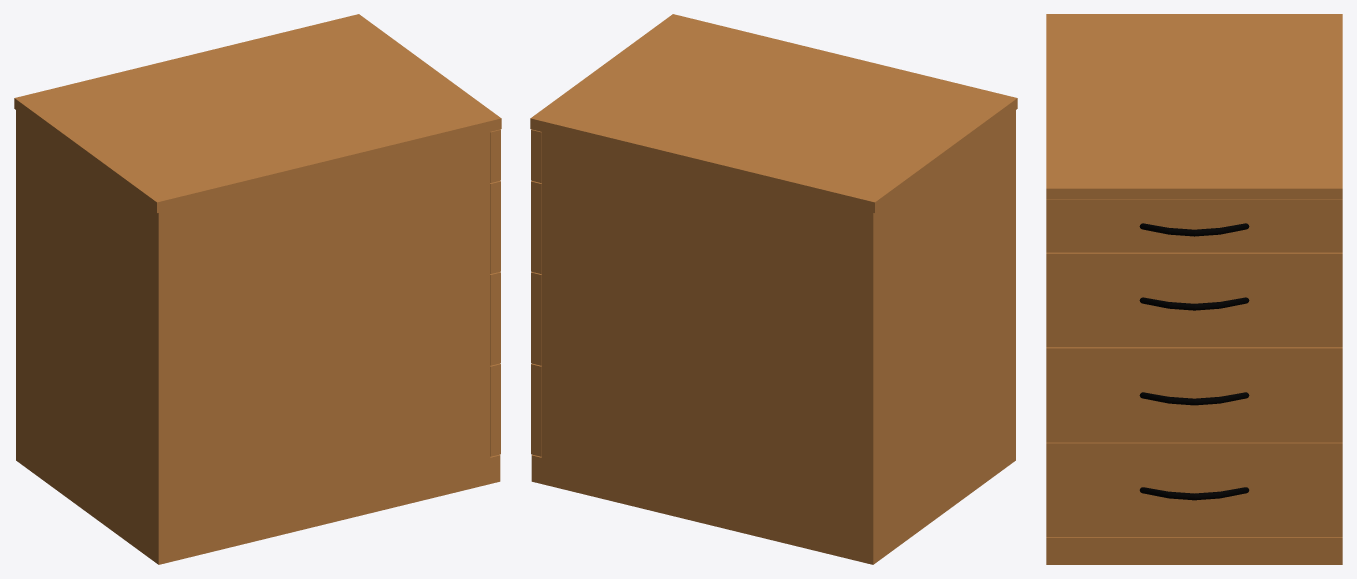
3 views of the same model, side by side, from view 1: azimuth 30°, elevation 25°; view 2: azimuth 150°, elevation 25°; view 3: azimuth 270°, elevation 25° (orthographic). The views are drawn at different scales.
Parts seen in each view (by area): view 1: Cube; view 2: Cube; view 3: Cube.
Boxes of the visible parts, x1,y1,x2,y2 form: Cube: (14, 14, 501, 564); Cube: (530, 14, 1017, 564); Cube: (1046, 14, 1342, 564).
Bounding box in the file's own units: 0.631 × 0.433 × 0.6333.
